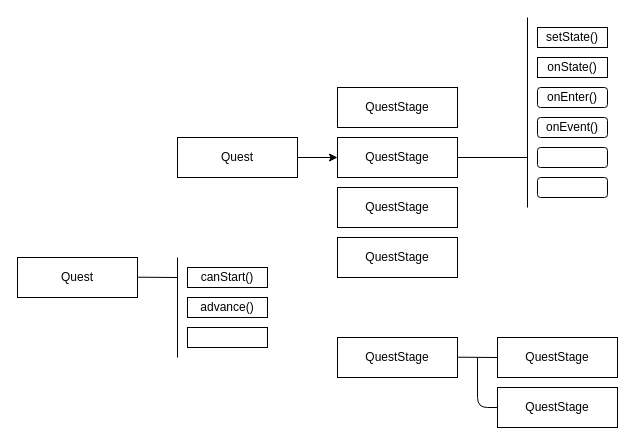
The diagram is 635 pixels wide and 445 high, and some of its shapes have lost their labels. Each missing label, with the centre of its shape:
"onComplete()" goes at (227,337).
"onLeave()" goes at (572,187).
"onUpdate()" goes at (572,157).
